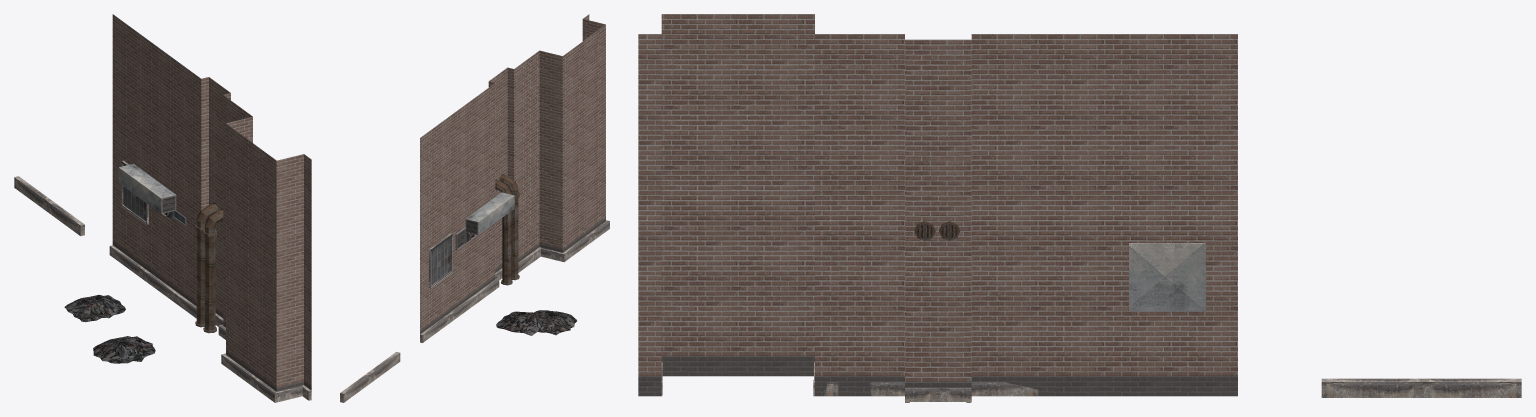
Rendered from IndustrialProps.fbx.
3 renders of one model, left to right at view 1: azimuth 30°, elevation 25°; view 2: azimuth 150°, elevation 25°; view 3: azimuth 270°, elevation 25°, orthographic. The views are drawn at different scales.
Parts seen in each view (by area): view 1: Wall3, Wall1, Wall2, VentPipe, Trash2, Trash1, Pipe1.001, WallBottom, Pipe1, Cube, Pipe2.001, Pipe2; view 2: Wall3, Wall1, Wall2, VentPipe, Cube, Trash1, WallBottom, Pipe1, Trash2, Pipe1.001; view 3: Wall3, Wall2, Wall1, Cube, WallBottom.
Boxes of the visible parts, <box> form: Wall3: <box>221,111,311,402</box>; Wall1: <box>109,14,178,303</box>; Wall2: <box>176,63,245,339</box>; VentPipe: <box>118,163,176,213</box>; Trash2: <box>93,336,155,363</box>; Trash1: <box>64,295,125,322</box>; Pipe1.001: <box>203,233,216,333</box>; WallBottom: <box>14,176,84,236</box>; Pipe1: <box>195,227,204,327</box>; Cube: <box>121,160,148,224</box>; Pipe2.001: <box>203,208,223,236</box>; Pipe2: <box>195,202,219,230</box>; Wall3: <box>533,14,609,262</box>; Wall1: <box>420,97,478,342</box>; Wall2: <box>476,55,535,301</box>; VentPipe: <box>465,192,514,235</box>; Cube: <box>429,233,452,288</box>; Trash1: <box>496,311,552,335</box>; WallBottom: <box>340,352,400,402</box>; Pipe1: <box>501,211,512,285</box>; Trash2: <box>534,310,576,335</box>; Pipe1.001: <box>511,195,519,280</box>; Wall3: <box>638,14,838,396</box>; Wall2: <box>838,34,1038,402</box>; Wall1: <box>1038,34,1237,396</box>; Cube: <box>1129,243,1205,311</box>; WallBottom: <box>1321,378,1521,397</box>.
Bounding box in the file's own units: 836 × 1957 × 3976.
